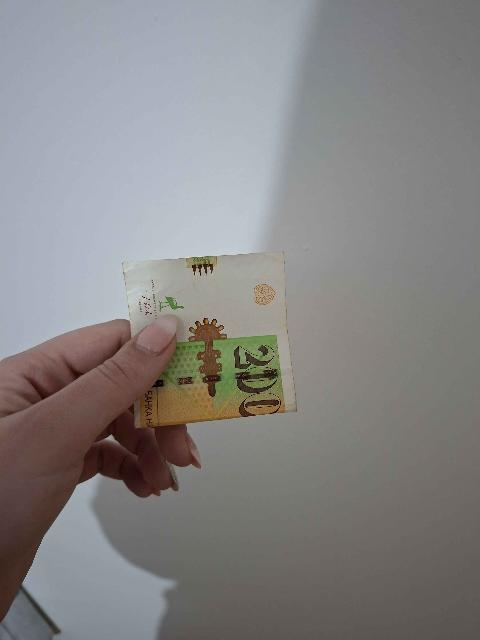200_note: (124, 253, 295, 427)
